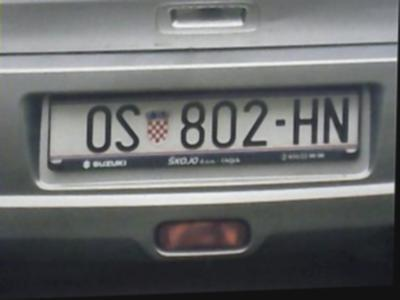License_Plate: (40, 84, 361, 156)
